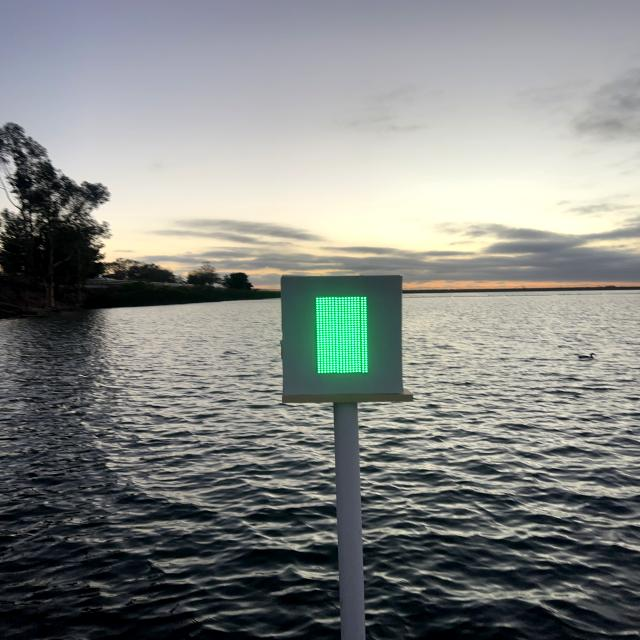led: (290, 283, 392, 391)
